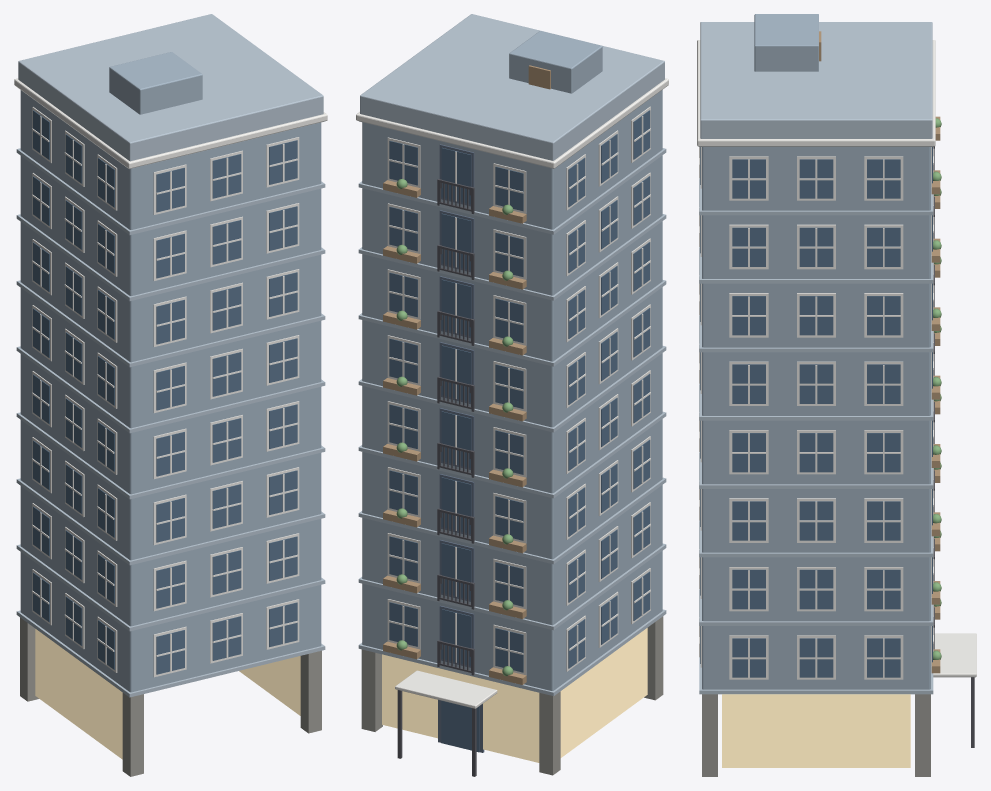
File: menara-5-blender-v1.glb
3 renders of one model, left to right at view 1: azimuth 30°, elevation 25°; view 2: azimuth 150°, elevation 25°; view 3: azimuth 270°, elevation 25°, orthographic. The views are drawn at different scales.
Visible parts, largest first — view 1: tower_body_m, windows_glass, roof, windows_frame, floor_bands, lobby, cornice_m; view 2: tower_body_m, windows_glass, roof, lobby, windows_frame, french_doors, floor_bands, flower_boxes, juliet_railings, cornice_m, flower_bushes; view 3: tower_body_m, windows_glass, roof, lobby, windows_frame, floor_bands, cornice_m, flower_boxes, flower_bushes.
Part boxes in pixels (box(x1,y1,x2,y2)): tower_body_m: box(20, 90, 321, 692); windows_glass: box(33, 110, 297, 674); roof: box(18, 14, 323, 161); windows_frame: box(32, 107, 299, 677); floor_bands: box(16, 121, 325, 697); lobby: box(20, 617, 321, 776); cornice_m: box(14, 78, 327, 168); tower_body_m: box(362, 90, 662, 690); windows_glass: box(389, 110, 650, 672); roof: box(360, 14, 664, 160); lobby: box(361, 616, 663, 776); windows_frame: box(387, 106, 650, 675); french_doors: box(439, 144, 474, 667); floor_bands: box(358, 121, 666, 696); flower_boxes: box(383, 180, 526, 684); juliet_railings: box(437, 179, 474, 675); cornice_m: box(356, 78, 668, 168); flower_bushes: box(396, 178, 513, 676); tower_body_m: box(702, 147, 930, 689); windows_glass: box(700, 147, 932, 677); roof: box(700, 14, 932, 138); lobby: box(702, 633, 976, 776); windows_frame: box(699, 147, 933, 679); floor_bands: box(699, 146, 933, 694); cornice_m: box(697, 40, 935, 146); flower_boxes: box(931, 116, 940, 673); flower_bushes: box(933, 118, 941, 659).
Bounding box in the file's own units: 8.85 × 28 × 10.38.
